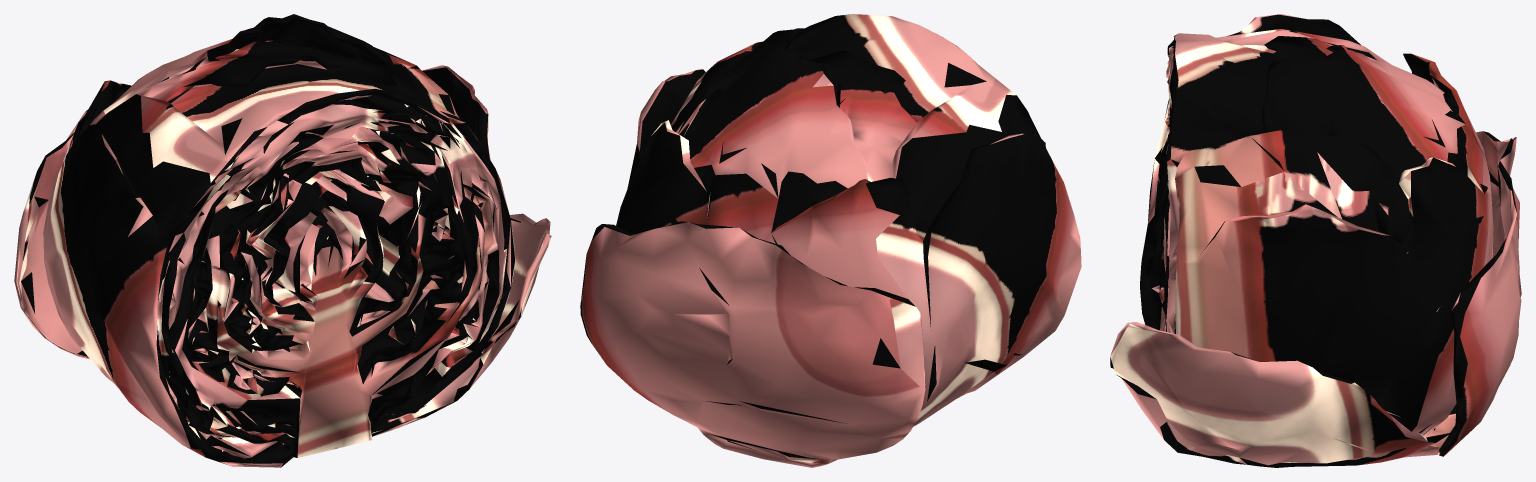
Rendered from 260806_양배추 반갈죽_01.fbx.
3 views of the same model, side by side, from view 1: azimuth 30°, elevation 25°; view 2: azimuth 150°, elevation 25°; view 3: azimuth 270°, elevation 25° (orthographic). The views are drawn at different scales.
Parts seen in each view (by area): view 1: Mesh1.0; view 2: Mesh1.0; view 3: Mesh1.0.
Part boxes in pixels (box(x1,y1,x2,y2)): Mesh1.0: box(14, 14, 551, 467); Mesh1.0: box(580, 14, 1081, 467); Mesh1.0: box(1110, 14, 1521, 467).
Size of the model in its own units: 190 by 170 by 163.
